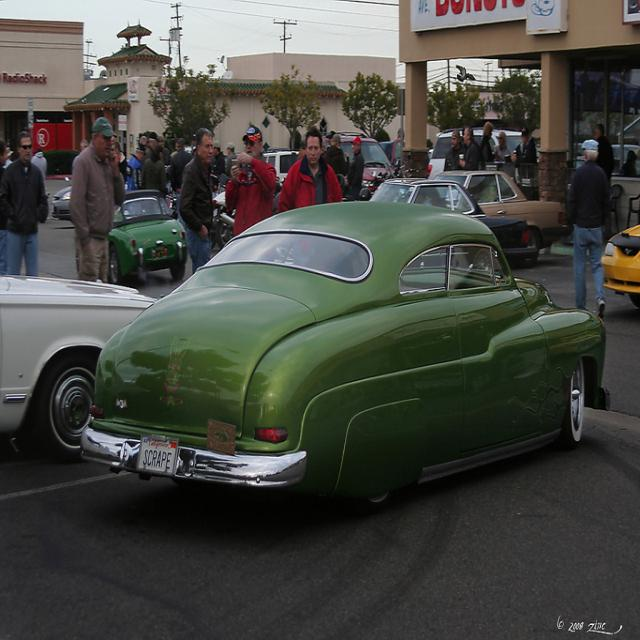car: (80, 200, 610, 519)
